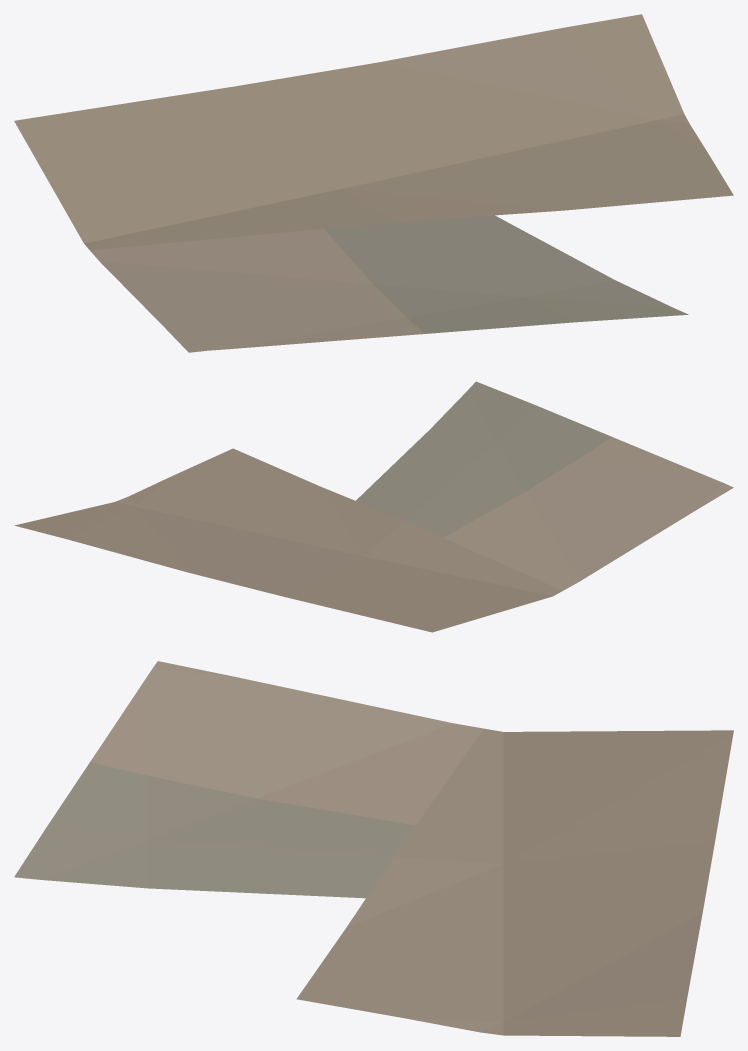
File: farm_1_15_soil.glb
The picture shows the model from 3 angles, top to bottom: view 1: azimuth 30°, elevation 25°; view 2: azimuth 150°, elevation 25°; view 3: azimuth 270°, elevation 25°; orthographic projection. The views are drawn at different scales.
Visible parts, largest first — view 1: geometry_0; view 2: geometry_0; view 3: geometry_0.
Part boxes in pixels (left/top/right/bottom): geometry_0: left=14, top=14, right=733, bottom=352; geometry_0: left=14, top=381, right=733, bottom=632; geometry_0: left=14, top=661, right=733, bottom=1036.
Bounding box in the file's own units: 183 × 13.26 × 162.
